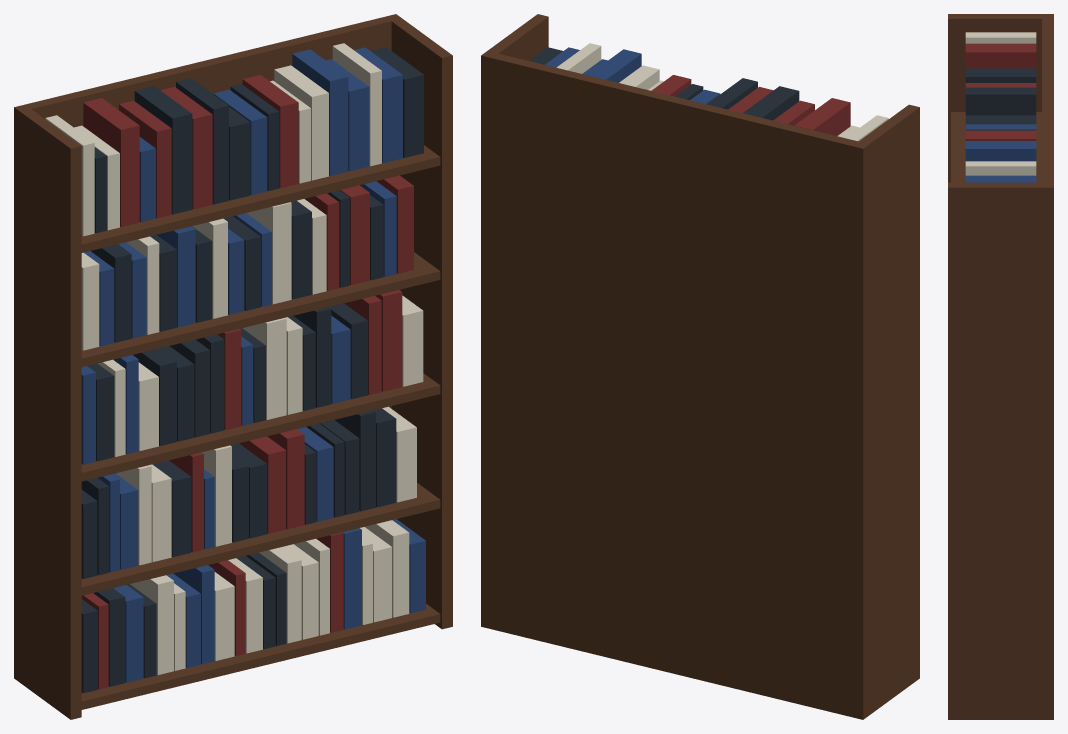
The model's file is bookshelf.gltf.
3 renders of one model, left to right at view 1: azimuth 30°, elevation 25°; view 2: azimuth 150°, elevation 25°; view 3: azimuth 270°, elevation 25°, orthographic. The views are drawn at different scales.
Parts seen in each view (by area): view 1: bookshelf_mesh; view 2: bookshelf_mesh; view 3: bookshelf_mesh.
Boxes of the visible parts, x1,y1,x2,y2 form: bookshelf_mesh: (14, 14, 452, 719); bookshelf_mesh: (481, 14, 919, 719); bookshelf_mesh: (948, 14, 1053, 719).
Bounding box in the file's own units: 1.4 × 2 × 0.36.
